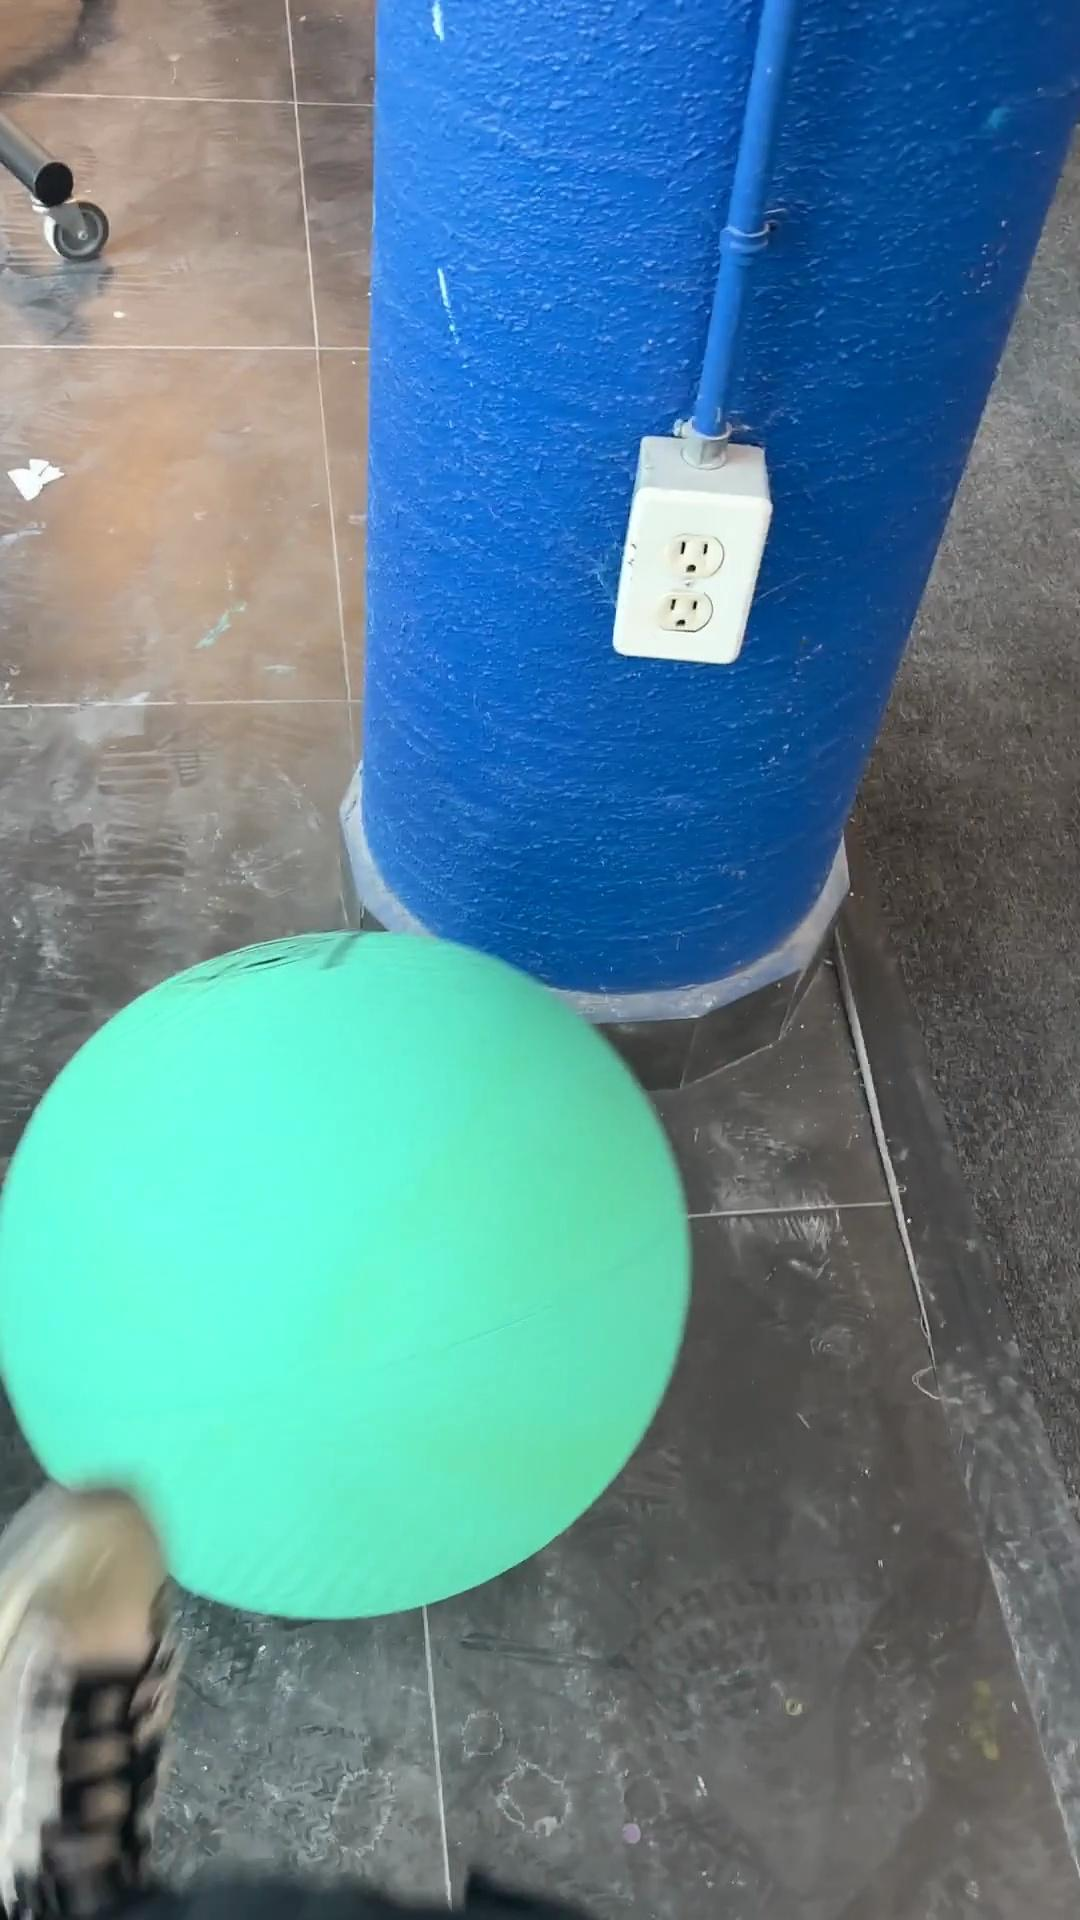ALGAE: (1, 926, 694, 1623)
